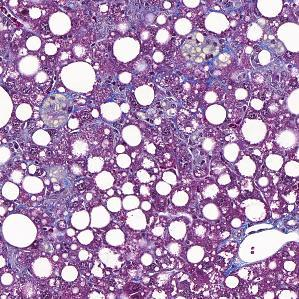fibrosis: (148, 52, 241, 106)
